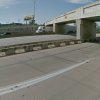Bridge: (40, 12, 97, 34)
